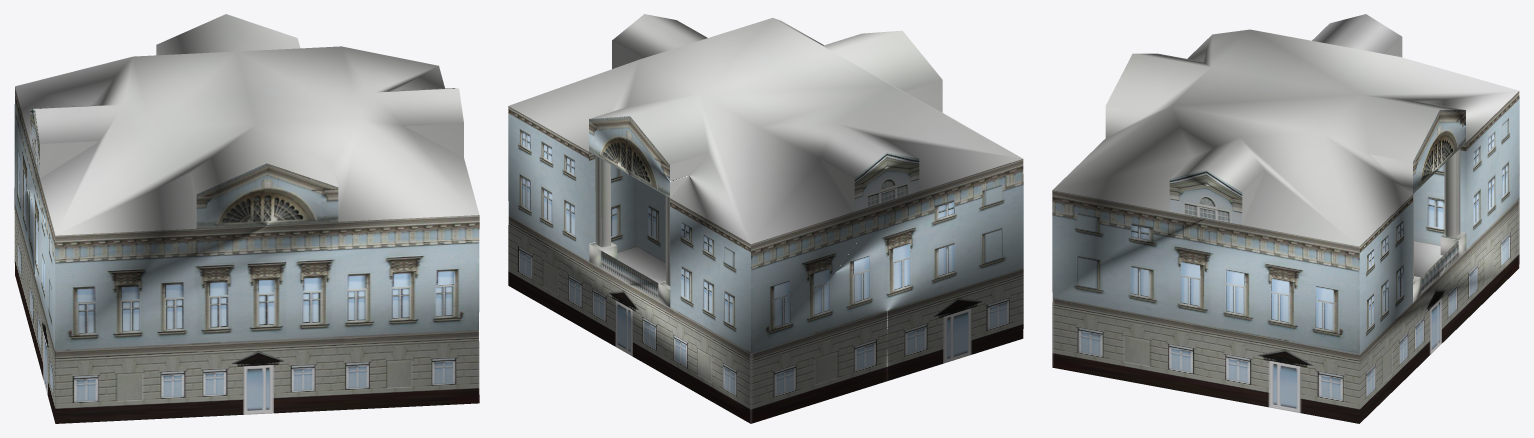
The model's file is lp-building18.fbx.
3 renders of one model, left to right at view 1: azimuth 30°, elevation 25°; view 2: azimuth 150°, elevation 25°; view 3: azimuth 270°, elevation 25°, orthographic. The views are drawn at different scales.
Visible parts, largest first — view 1: 01houses.013; view 2: 01houses.013; view 3: 01houses.013.
Part boxes in pixels (x1,y1,x2,y2): 01houses.013: (14,14,479,423); 01houses.013: (508,14,1023,423); 01houses.013: (1052,14,1519,423).
Bounding box in the file's own units: 1011 × 525 × 940.
Materials: 1 (1 with a texture image).
